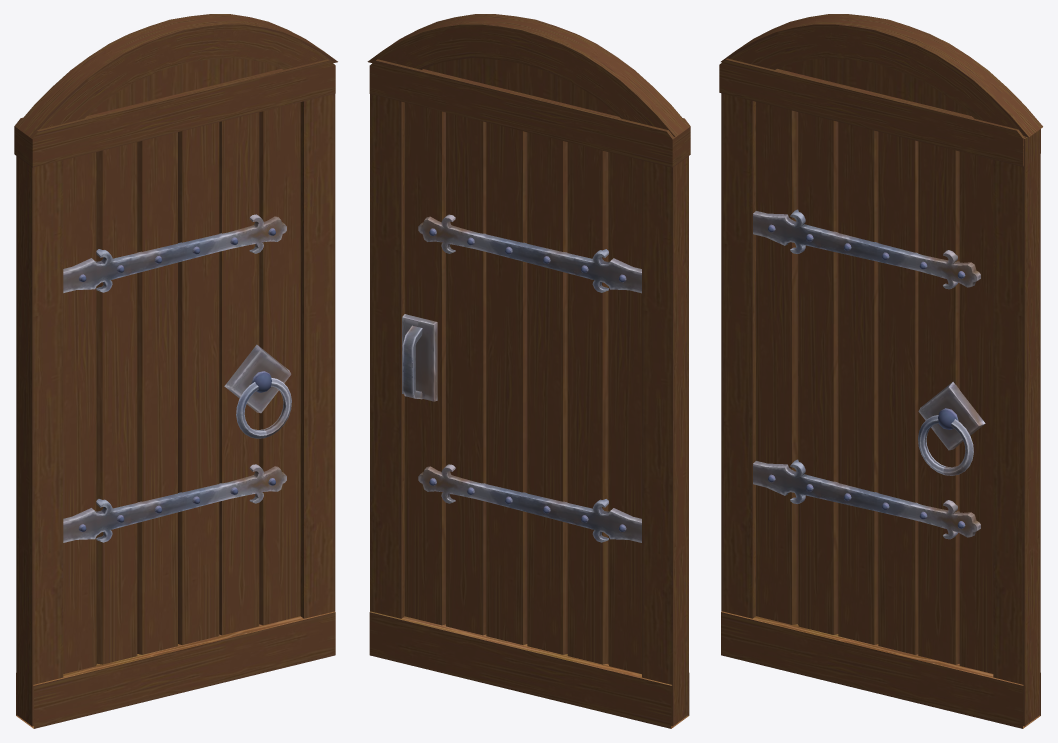
File: Door_5_Round.gltf
The picture shows the model from 3 angles, left to right: view 1: azimuth 30°, elevation 25°; view 2: azimuth 150°, elevation 25°; view 3: azimuth 330°, elevation 25°; orthographic projection.
Visible parts, largest first — view 1: Door_5_Round; view 2: Door_5_Round; view 3: Door_5_Round.
Boxes of the visible parts, x1,y1,x2,y2 form: Door_5_Round: [14, 14, 337, 728]; Door_5_Round: [367, 14, 690, 728]; Door_5_Round: [719, 14, 1042, 728].
Bounding box in the file's own units: 1.14 × 2.32 × 0.1995.
Materials: 2 (2 with a texture image).
